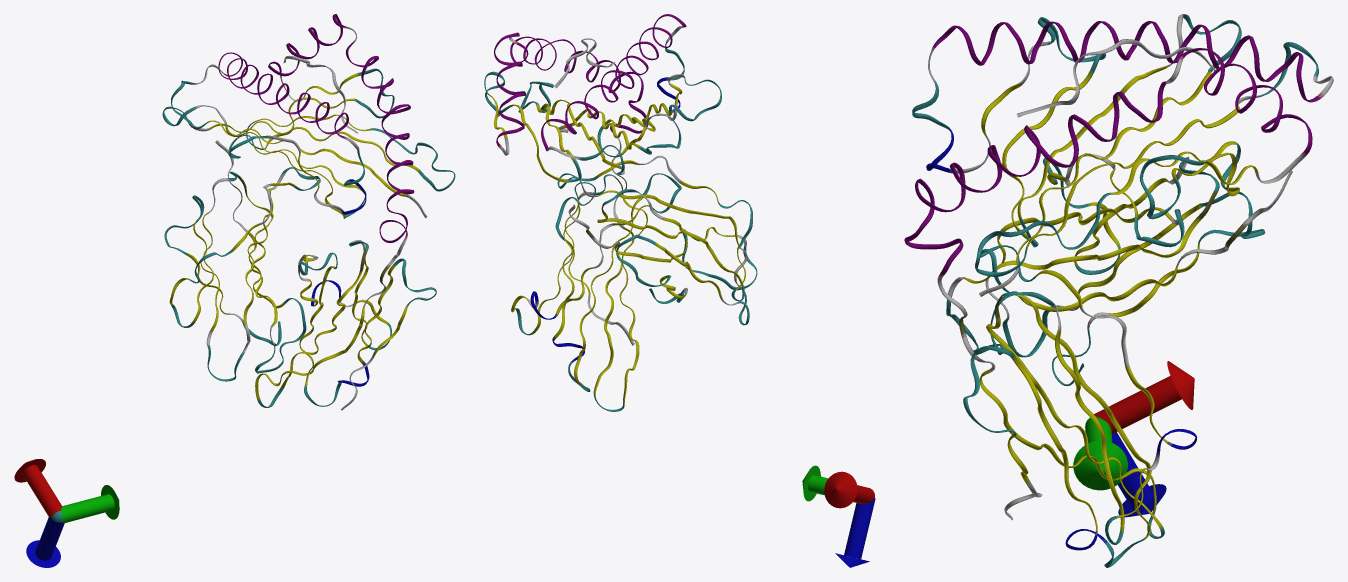
3 renders of one model, left to right at view 1: azimuth 30°, elevation 25°; view 2: azimuth 150°, elevation 25°; view 3: azimuth 270°, elevation 25°, orthographic. The views are drawn at different scales.
Visible parts, largest first — view 1: vmd_mol1_rep0, vmd_axes; view 2: vmd_mol1_rep0, vmd_axes; view 3: vmd_mol1_rep0, vmd_axes.
Boxes of the visible parts, x1,y1,x2,y2 form: vmd_mol1_rep0: (162,14,455,410); vmd_axes: (14,459,119,567); vmd_mol1_rep0: (484,14,757,411); vmd_axes: (802,465,875,567); vmd_mol1_rep0: (904,14,1333,567); vmd_axes: (1073,361,1194,517).
Size of the model in its own units: 1.51 by 1.76 by 0.979.
